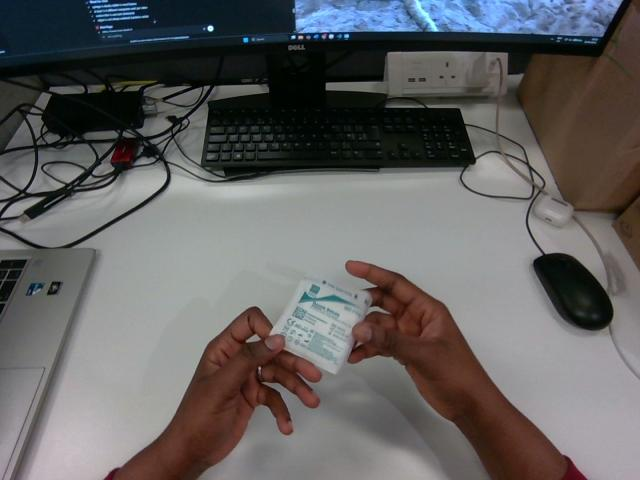gauze: (271, 276, 371, 373)
